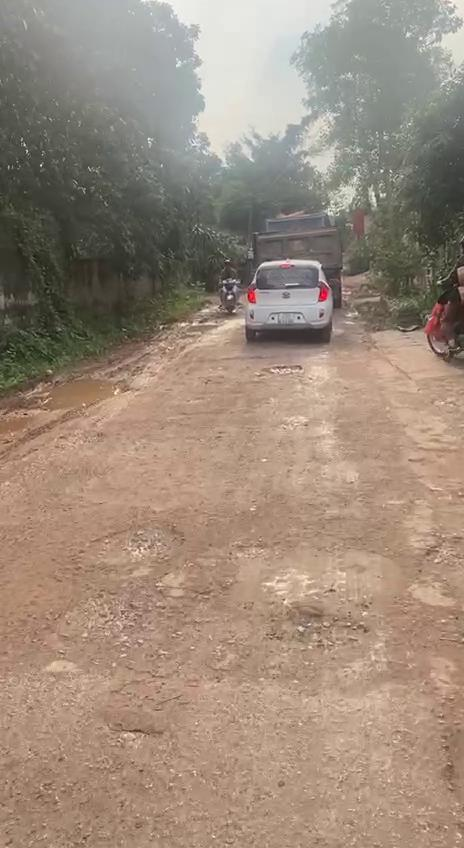pothole: (403, 446, 464, 568), (424, 650, 464, 800), (253, 604, 370, 654), (68, 592, 144, 652), (87, 518, 182, 564), (37, 374, 130, 416), (228, 542, 275, 564), (261, 362, 307, 378)
